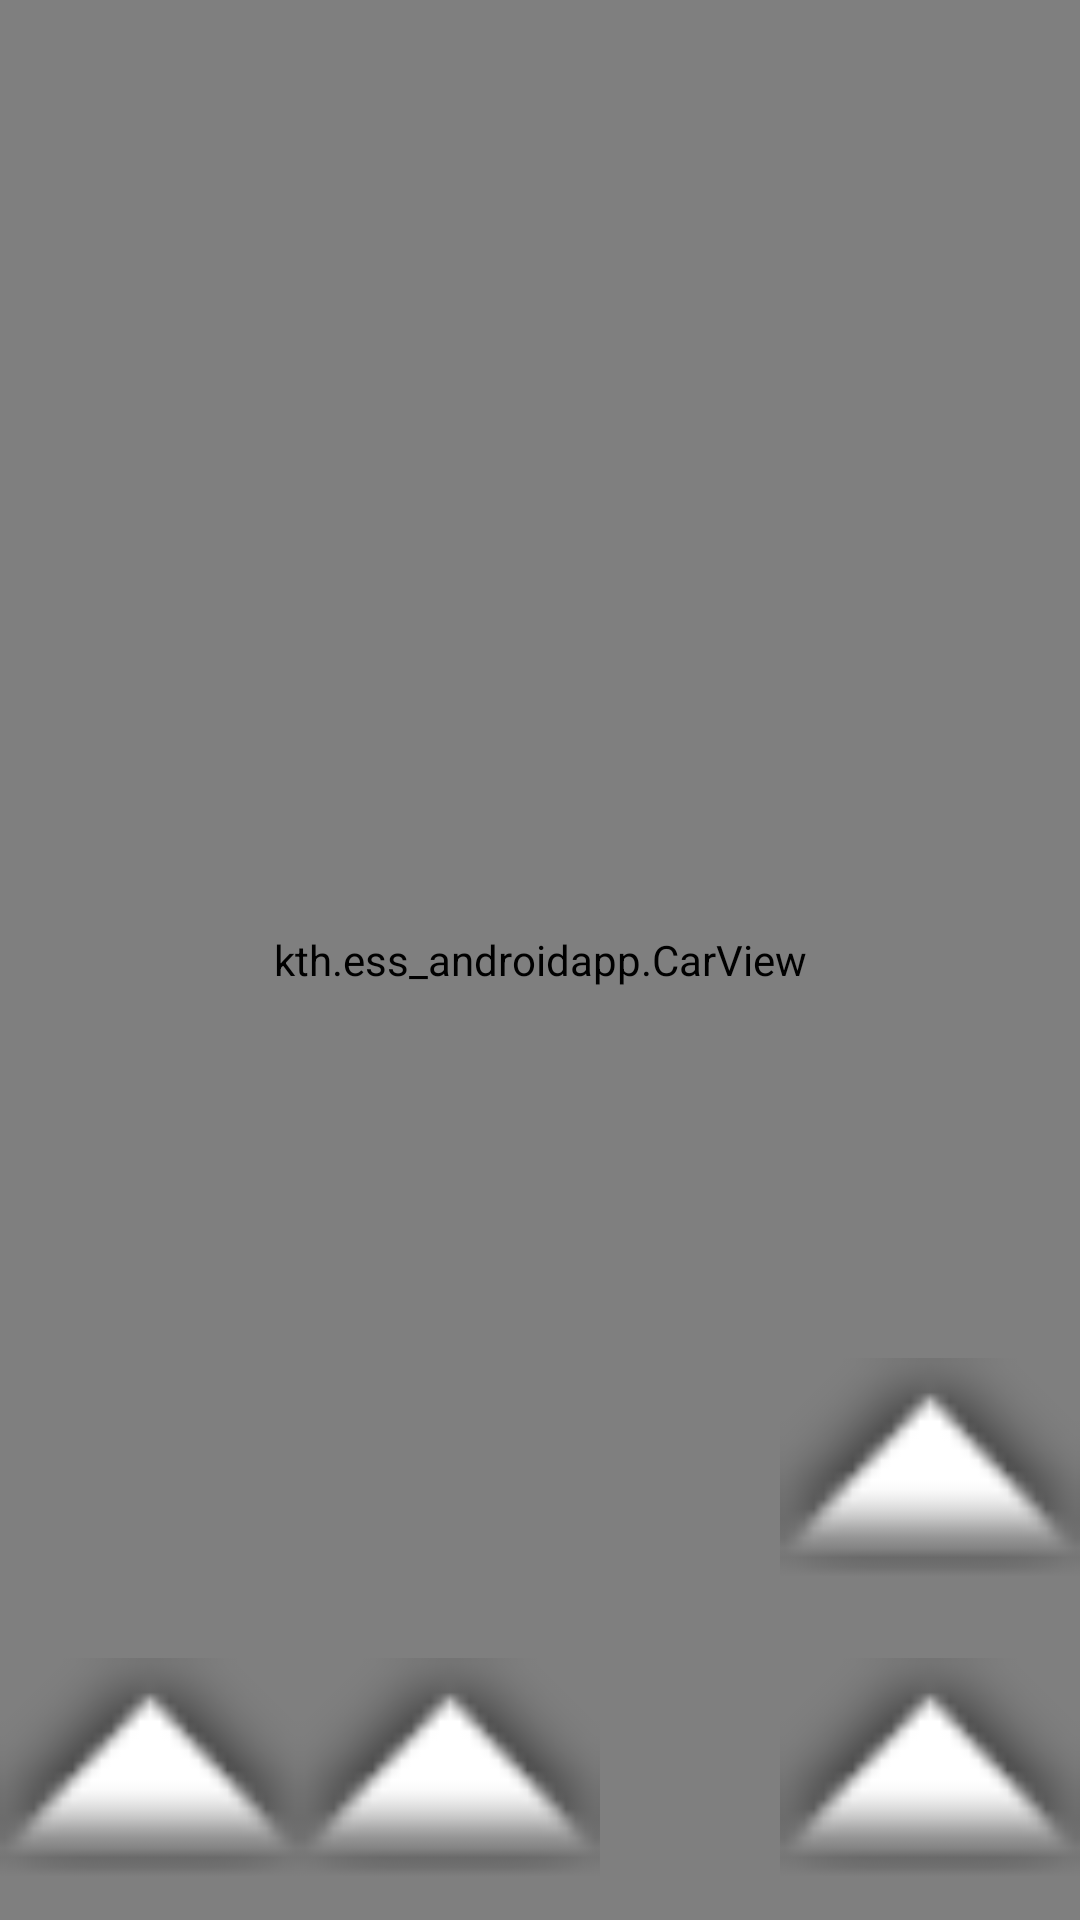

Icon click points for this 1080 x 1920 phone screenshot, format (x=x, y=y):
arrow up float: (x=930, y=1461), (x=150, y=1761), (x=450, y=1761), (x=930, y=1761)
